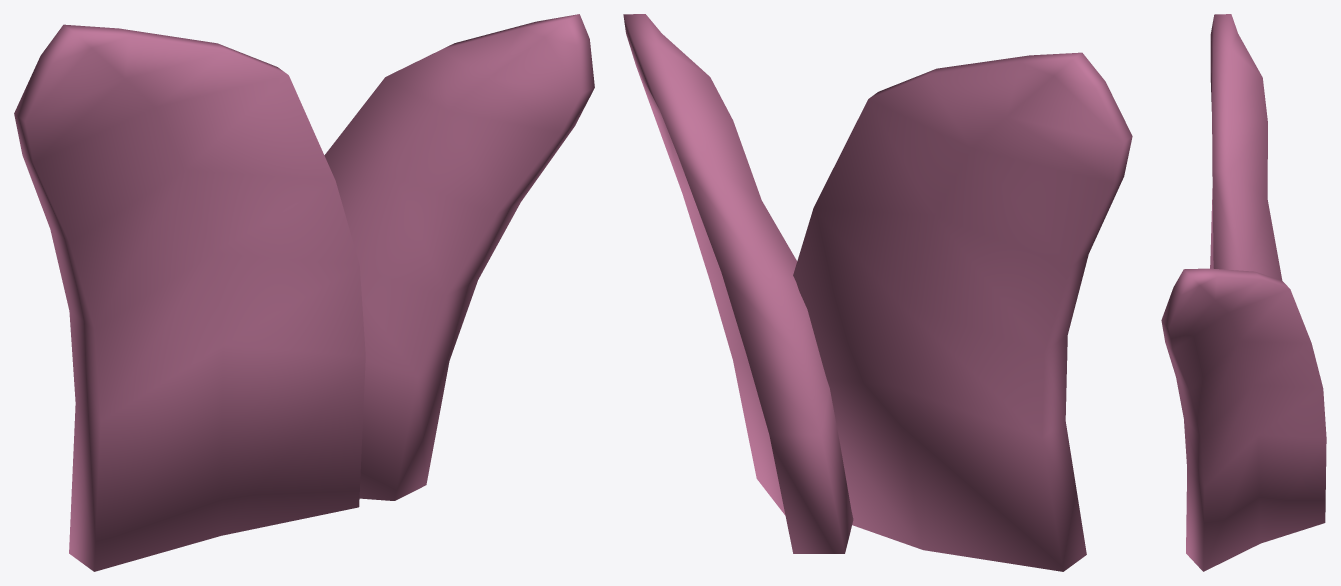
The model's file is grass-23_col.fbx.
3 views of the same model, side by side, from view 1: azimuth 30°, elevation 25°; view 2: azimuth 150°, elevation 25°; view 3: azimuth 270°, elevation 25° (orthographic). The views are drawn at different scales.
Parts seen in each view (by area): view 1: grass-23.col; view 2: grass-23.col; view 3: grass-23.col.
Boxes of the visible parts, left/top/right/bottom form: grass-23.col: left=14, top=14, right=594, bottom=571; grass-23.col: left=623, top=14, right=1132, bottom=571; grass-23.col: left=1161, top=14, right=1326, bottom=571.
Size of the model in its own units: 0.0796 by 0.0743 by 0.0262.
1 material, 1 textured.
